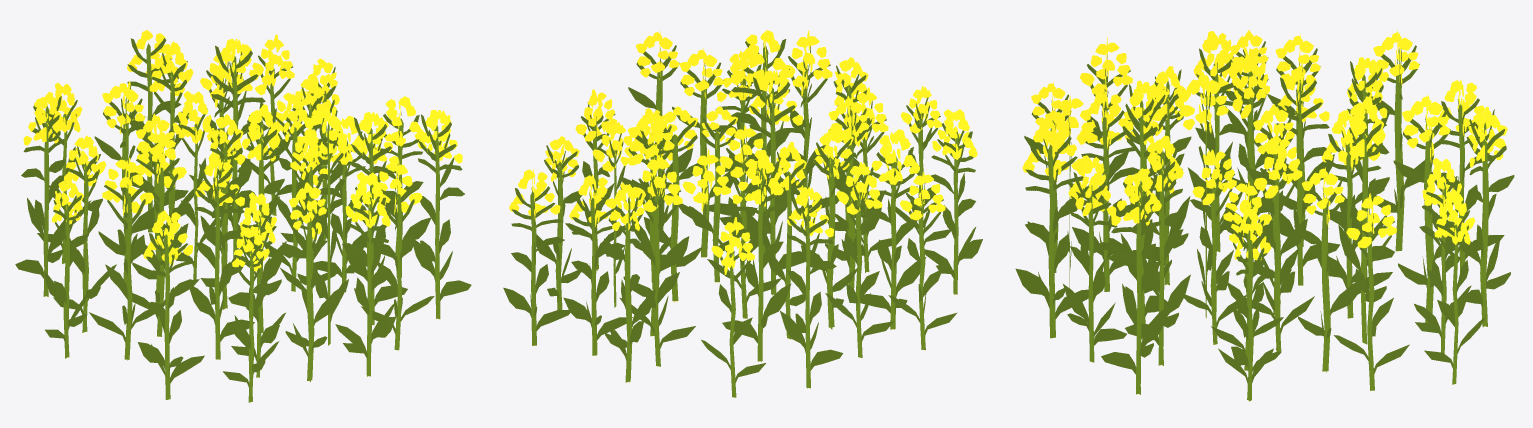
The model's file is SM_Env_CropField_Clump_01.glb.
3 renders of one model, left to right at view 1: azimuth 30°, elevation 25°; view 2: azimuth 150°, elevation 25°; view 3: azimuth 270°, elevation 25°, orthographic. The views are drawn at different scales.
Visible parts, largest first — view 1: SM_Env_CropField_Clump_01; view 2: SM_Env_CropField_Clump_01; view 3: SM_Env_CropField_Clump_01.
Part boxes in pixels (left/top/right/bottom): SM_Env_CropField_Clump_01: left=15, top=30, right=471, bottom=402; SM_Env_CropField_Clump_01: left=503, top=30, right=982, bottom=397; SM_Env_CropField_Clump_01: left=1015, top=30, right=1514, bottom=401.
Size of the model in its own units: 2.17 by 1.3 by 2.28.
1 material, 1 textured.
